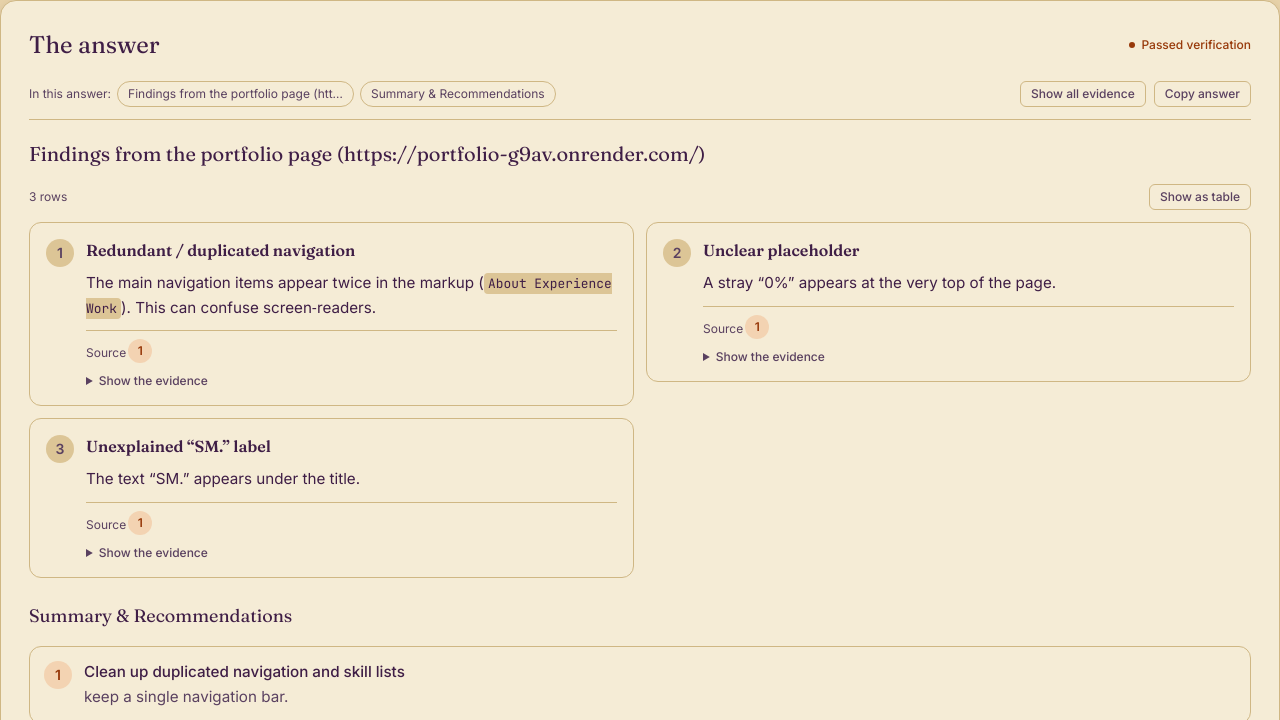
Test: AnswerPaper — a real answer from a model › offers the plain table as a switch, and switches back
The width and height of the screenshot is (1280, 720).
What coordinates should you click on to do the following:
click the button "Show as table"
I would click on:
 (1200, 197)
Its box is [1149,184,1251,210].
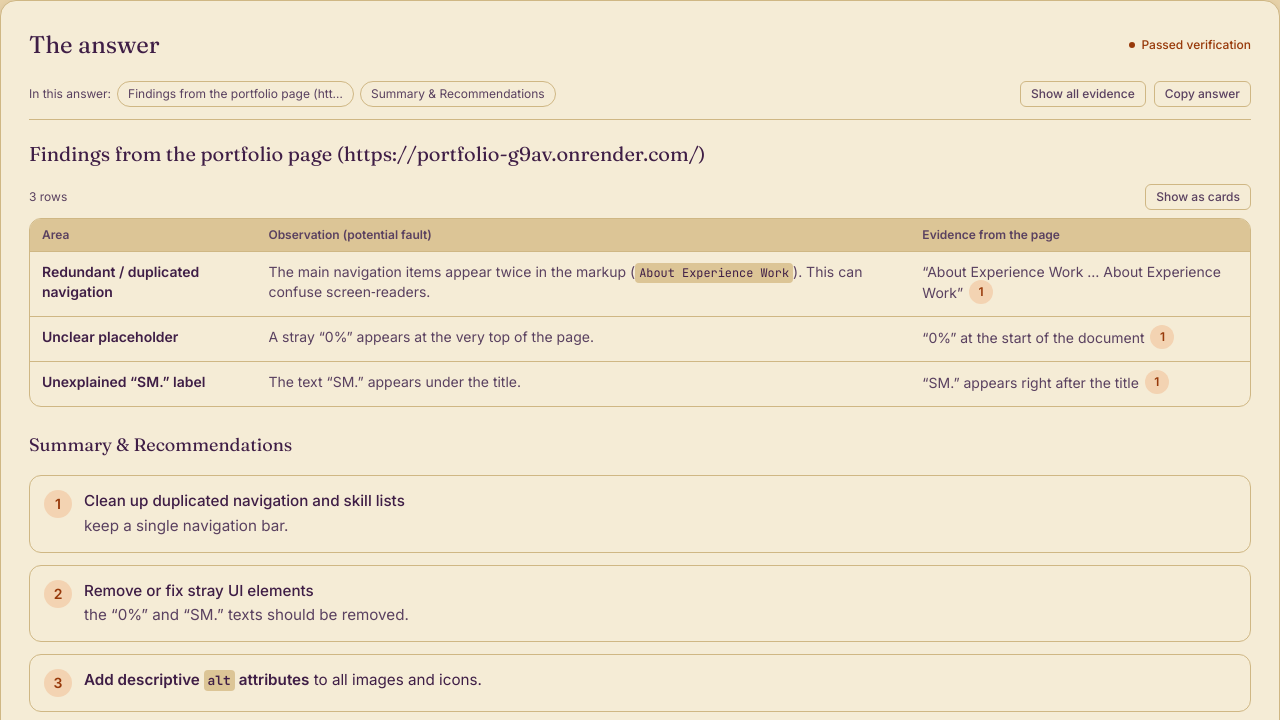
Now the column headings read "Area", "Observation (potential fault)", "Evidence from the page", in this order, box [30,219,256,252]; [256,219,910,252]; [910,219,1250,252]
Now the number of rows is 4, box [30,219,1250,252]; [30,252,1250,316]; [30,316,1250,362]; [30,362,1250,406]
What coordinates should you click on to do the following:
click the button "Show as cards"
I would click on:
 (1198, 197)
Its box is [1145,184,1251,210].
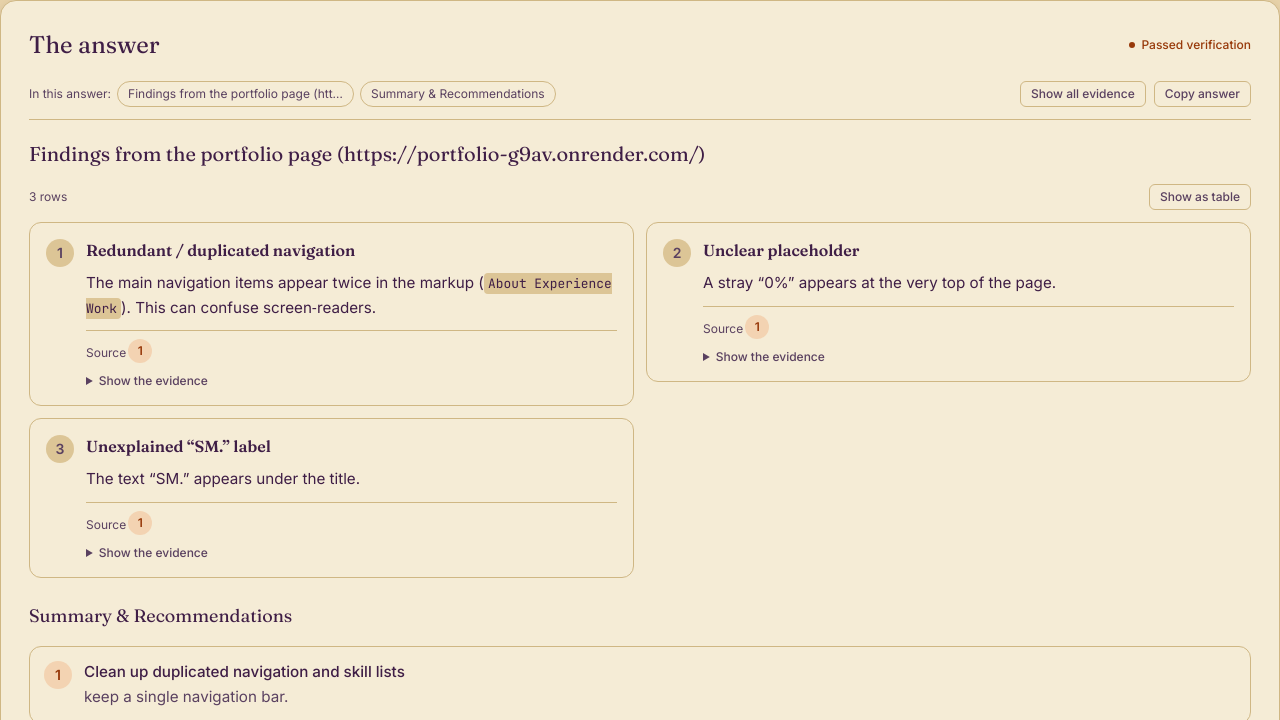
Now the table is gone
